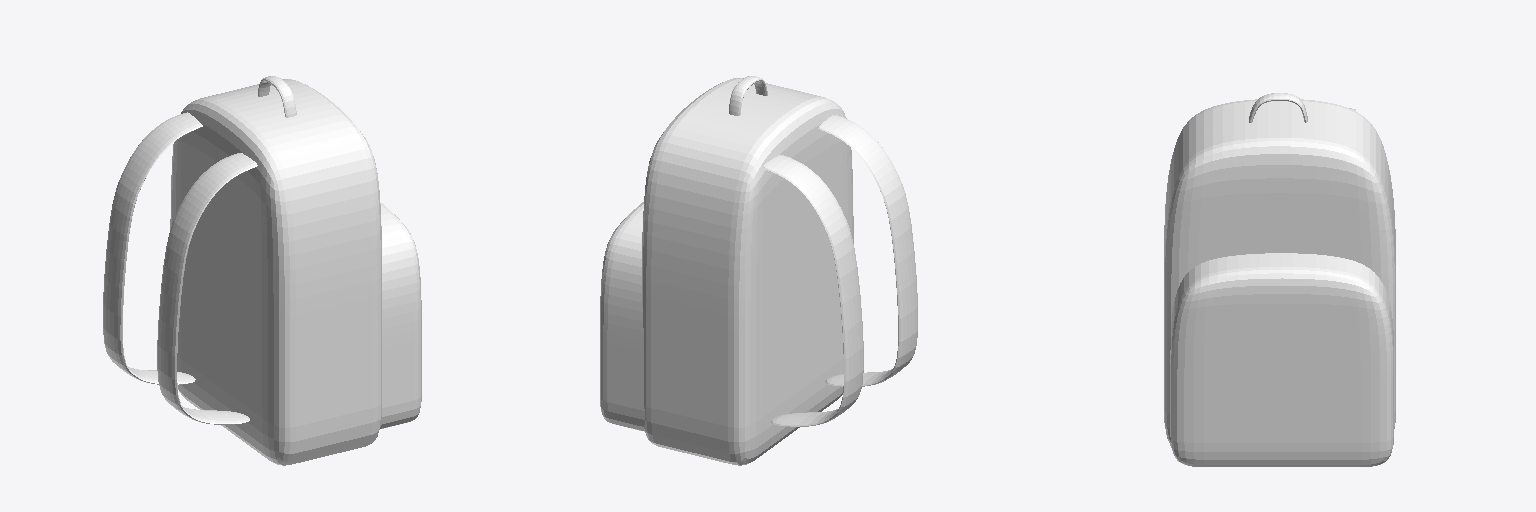
Rendered from bag-t.obj.
3 views of the same model, side by side, from view 1: azimuth 30°, elevation 25°; view 2: azimuth 150°, elevation 25°; view 3: azimuth 270°, elevation 25° (orthographic).
Visible parts, largest first — view 1: pCube1, pasted__pCube1_group, pasted__pCube2_group1, pCube2, pCube3; view 2: pCube1, pasted__pCube1_group, pCube2, pasted__pCube2_group1, pCube3; view 3: pasted__pCube1_group, pCube1, pCube3.
Part boxes in pixels (left/top/right/bottom): pCube1: left=170, top=79, right=381, bottom=465; pasted__pCube1_group: left=380, top=202, right=421, bottom=428; pasted__pCube2_group1: left=157, top=153, right=257, bottom=424; pCube2: left=103, top=112, right=202, bottom=384; pCube3: left=258, top=76, right=296, bottom=117; pCube1: left=642, top=78, right=853, bottom=465; pasted__pCube1_group: left=600, top=202, right=644, bottom=431; pCube2: left=763, top=155, right=863, bottom=426; pasted__pCube2_group1: left=818, top=115, right=917, bottom=386; pCube3: left=729, top=76, right=767, bottom=115; pasted__pCube1_group: left=1170, top=253, right=1393, bottom=466; pCube1: left=1164, top=99, right=1395, bottom=447; pCube3: left=1249, top=93, right=1307, bottom=122.
Bounding box in the file's own units: 1.17 × 1.63 × 1.